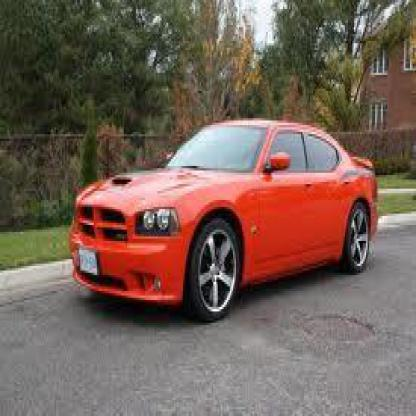Vehicle: (67, 116, 382, 327)
